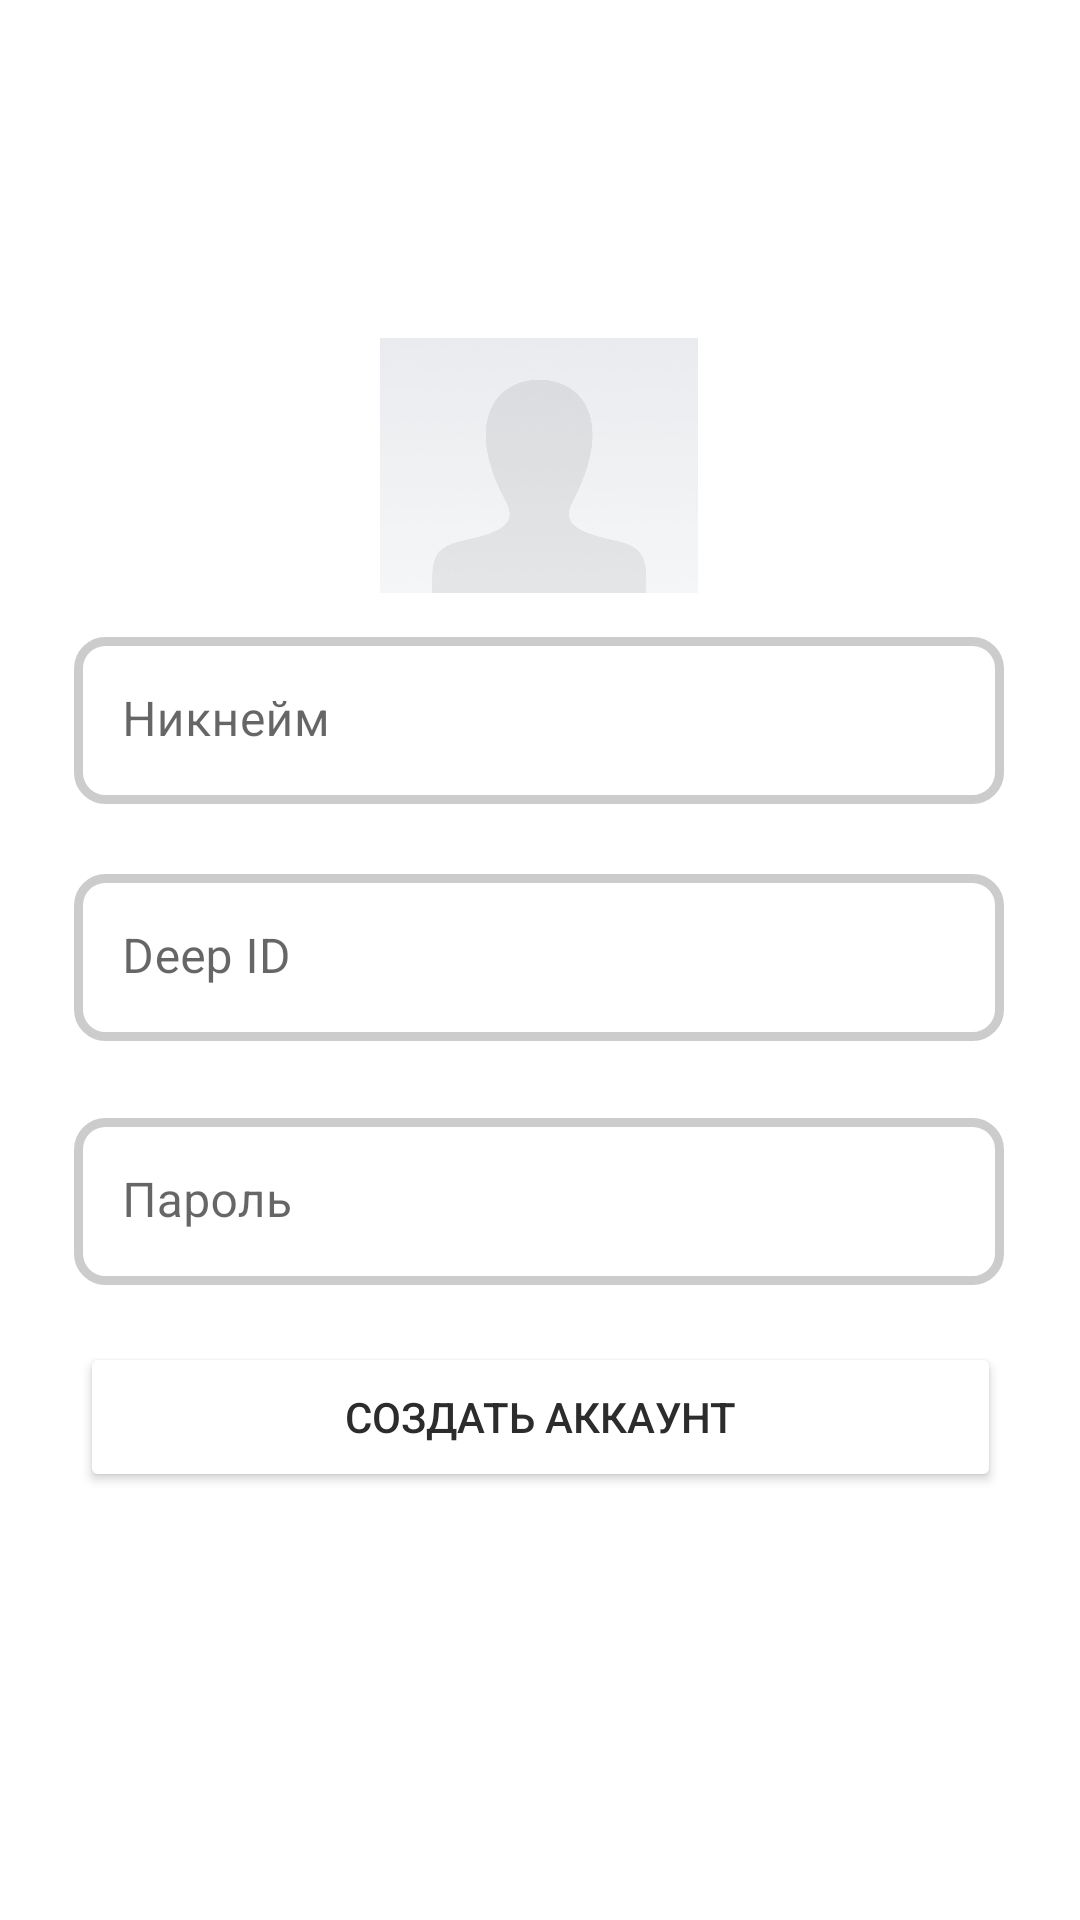

Where to tap for icons on this 1080px x 1920px app screen, as point (x, y):
Аватар профиля: point (539, 486)
